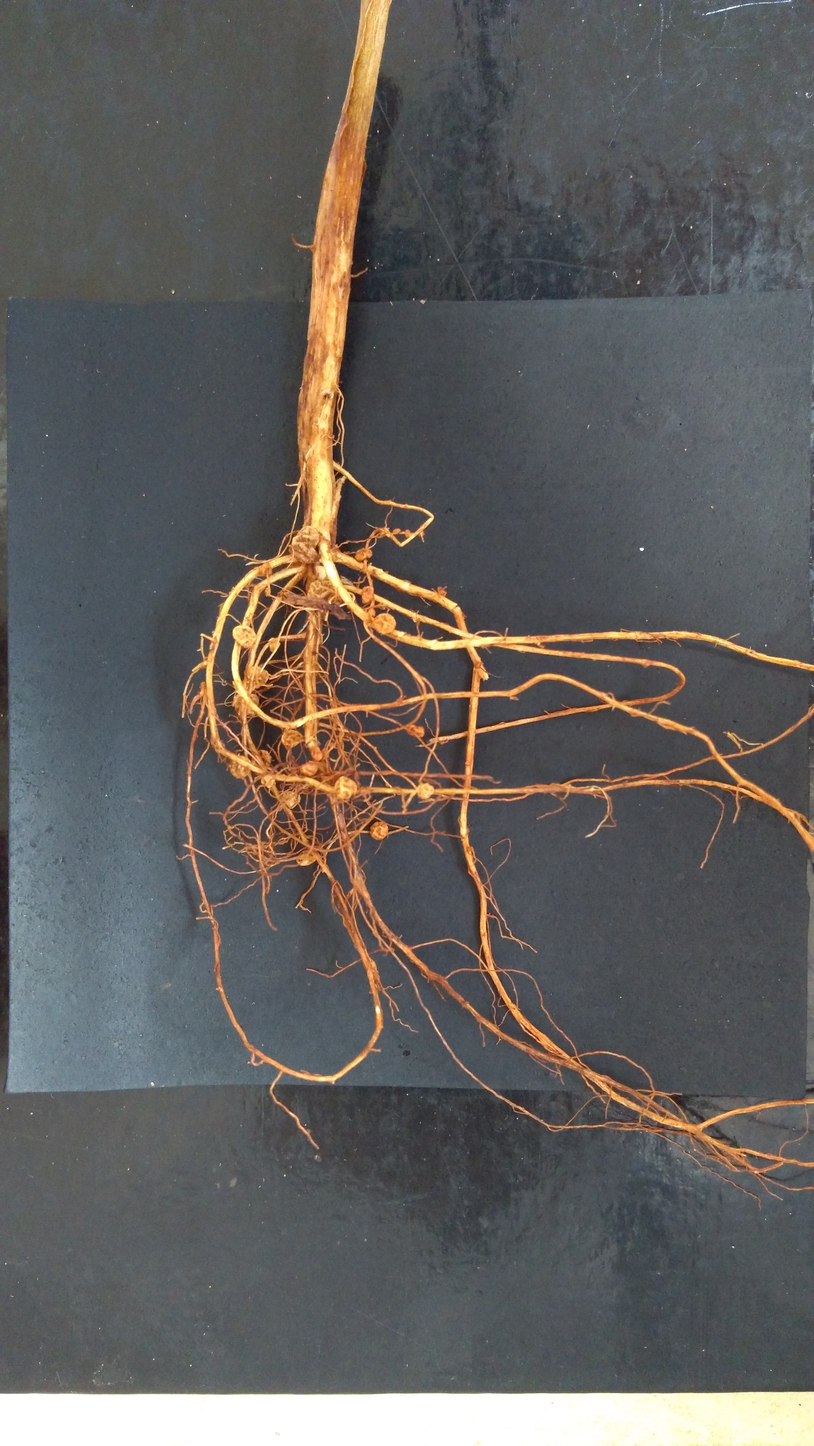nodule: (287, 524, 324, 566), (306, 578, 341, 606), (231, 691, 260, 717), (231, 623, 258, 649), (332, 775, 359, 801), (228, 753, 253, 780), (372, 612, 398, 635), (250, 748, 273, 771), (246, 665, 271, 686), (280, 729, 305, 750), (369, 820, 390, 841), (295, 848, 317, 867), (282, 790, 302, 809), (299, 759, 319, 777), (405, 722, 425, 740), (416, 781, 434, 800), (354, 546, 374, 563), (360, 585, 375, 606), (260, 773, 276, 789), (267, 637, 281, 653), (417, 526, 424, 536), (392, 527, 400, 535), (405, 529, 411, 538)
